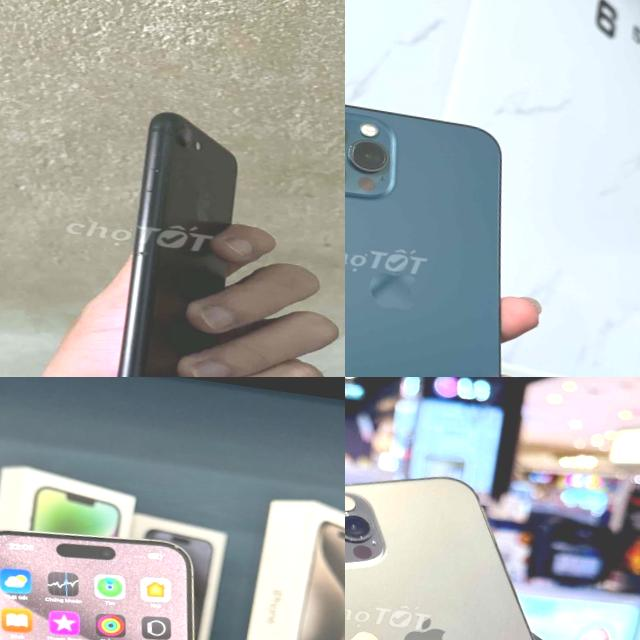scratch: (0, 527, 10, 538)
